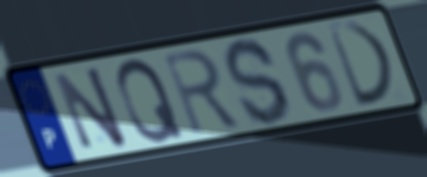6: (282, 28, 345, 114)
D: (323, 19, 398, 111)
N: (50, 62, 132, 153)
Q: (114, 56, 187, 146)
R: (159, 46, 245, 139)
S: (221, 35, 294, 128)
